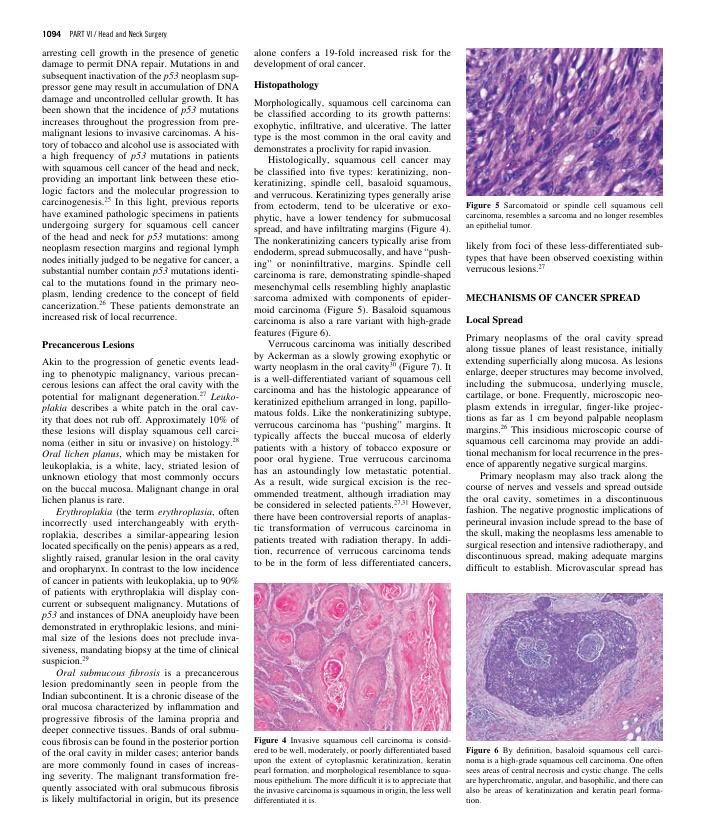header: (69, 28, 168, 40)
sub-section-heading: (41, 338, 137, 349)
